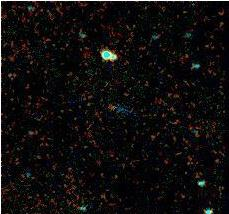star: (95, 93, 125, 123)
